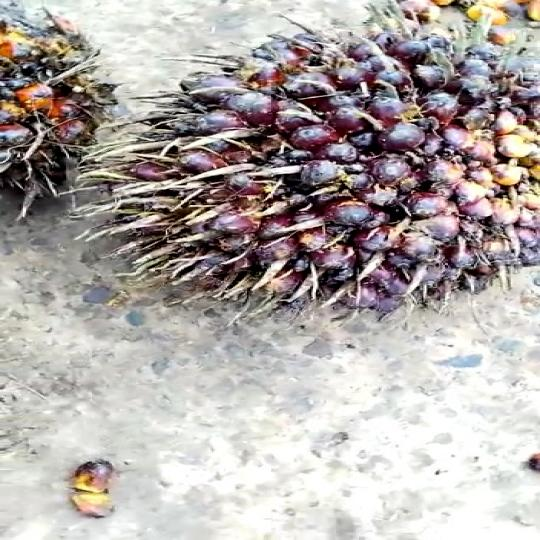masak: (99, 0, 540, 352)
